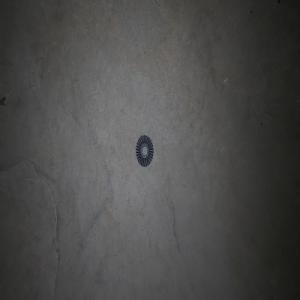Washer: (135, 134, 153, 167)
